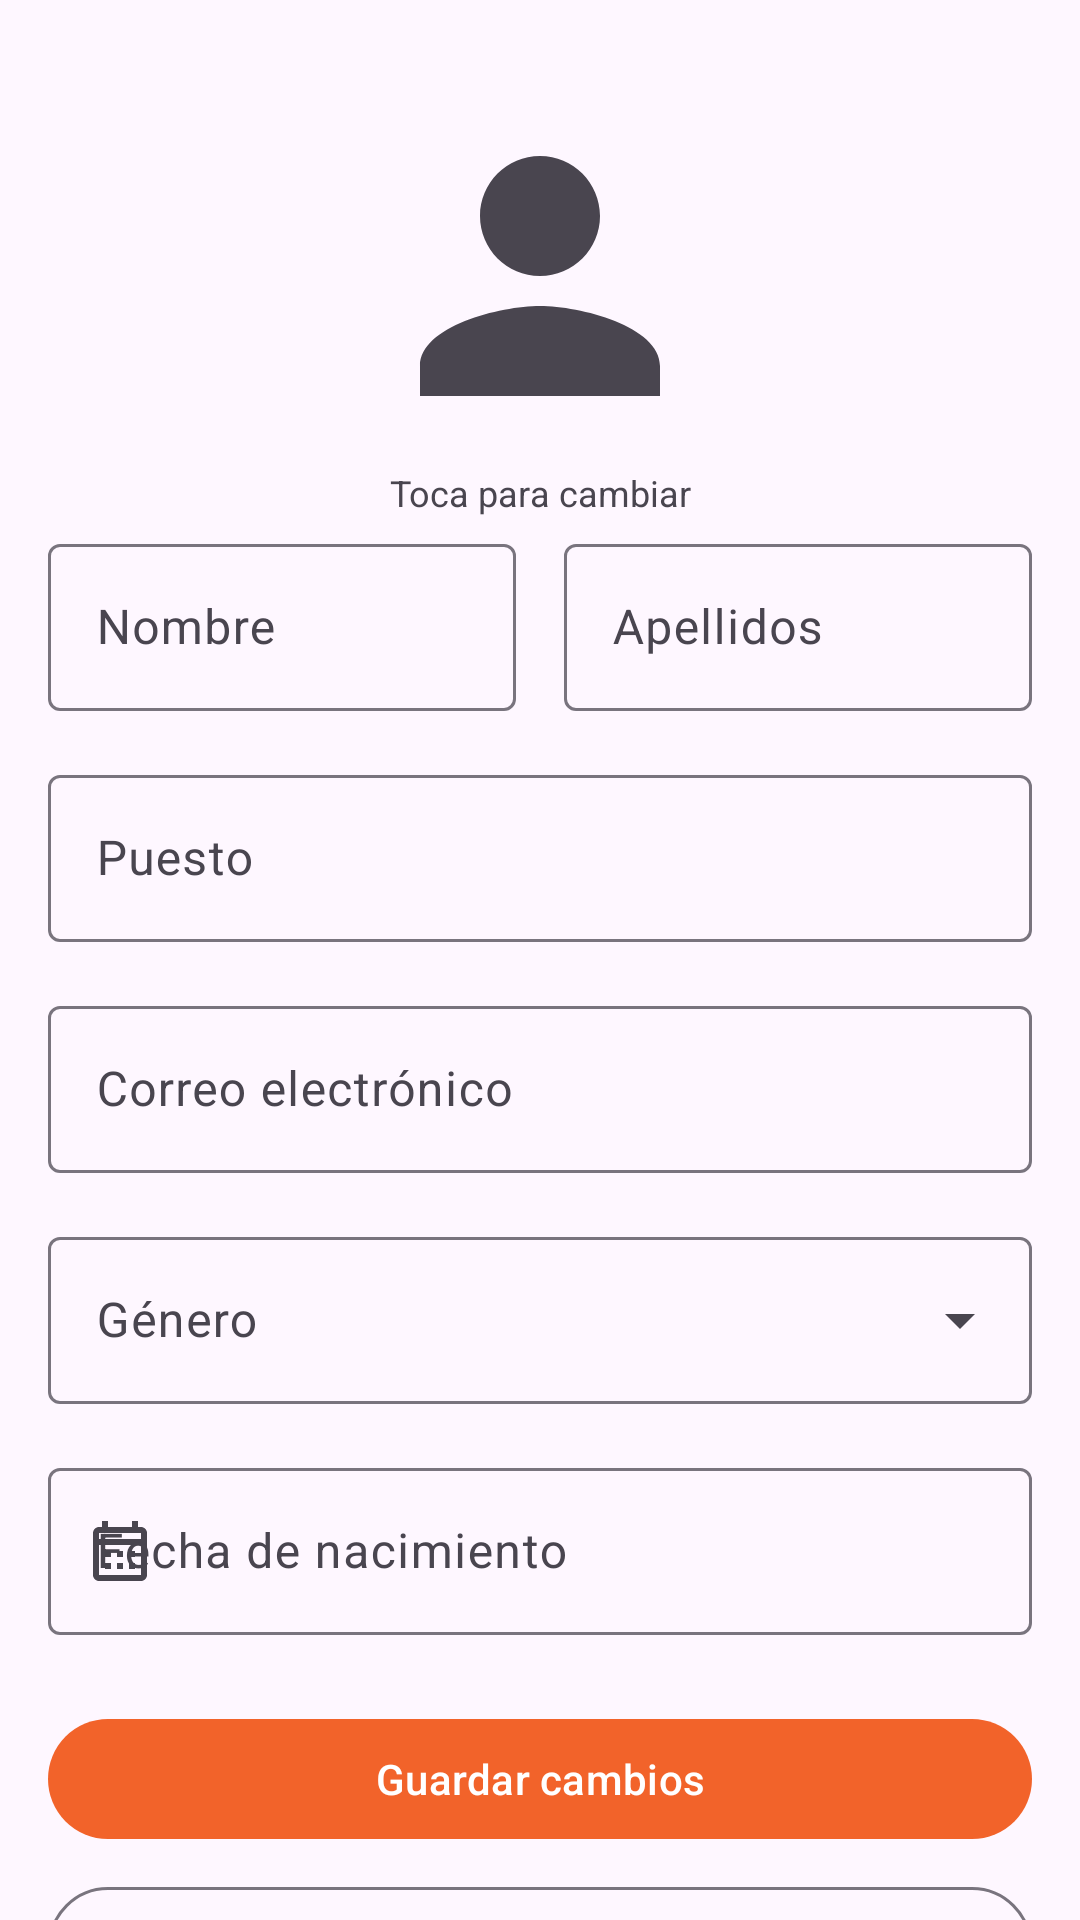

Named icons in this screenshot (1080px x 1920px) and their centers, point (x, y):
person: point (540, 276)
